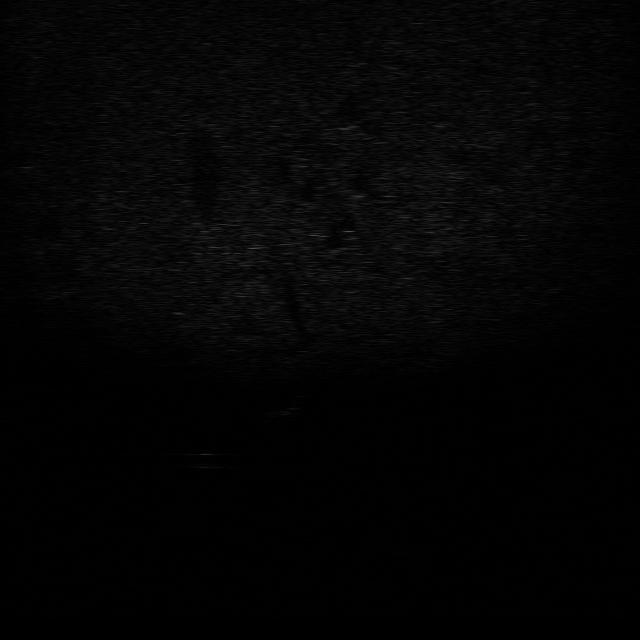ball: (184, 445, 224, 472)
human body: (256, 389, 309, 430)
